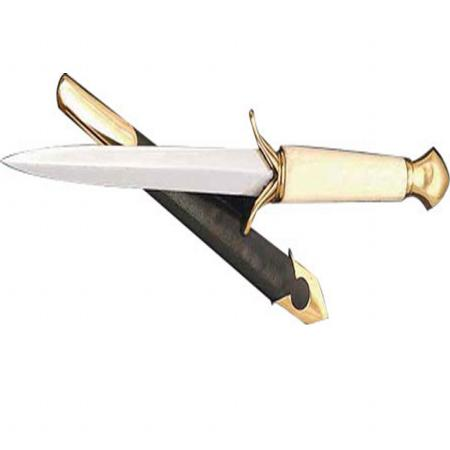long weapon: (1, 124, 248, 210)
